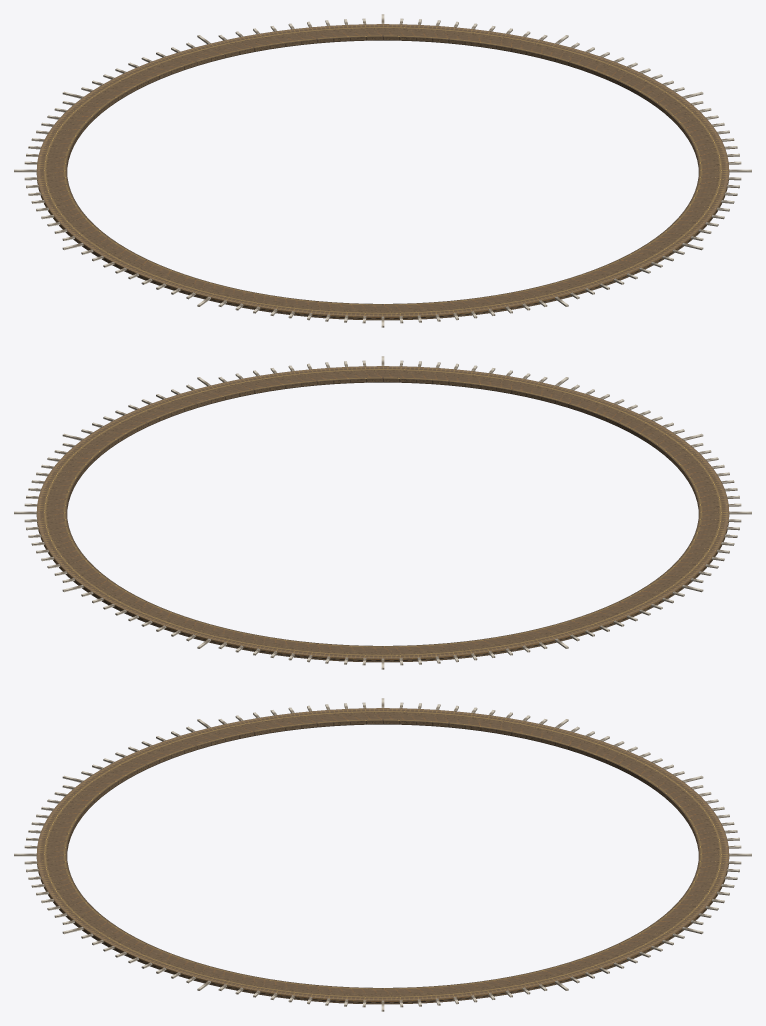
The model's file is floating_pedestal_dial.obj.
3 renders of one model, top to bottom at view 1: azimuth 30°, elevation 25°; view 2: azimuth 150°, elevation 25°; view 3: azimuth 270°, elevation 25°, orthographic.
Size of the model in its own units: 29.2 by 0.17 by 29.2.
